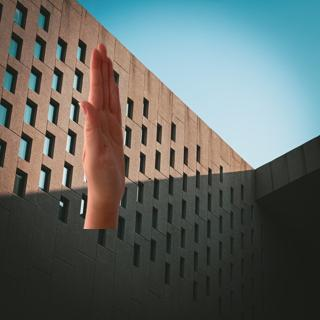Right: (65, 36, 145, 228)
